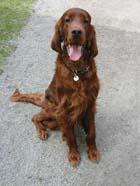Irish_setter: (9, 6, 104, 169)
